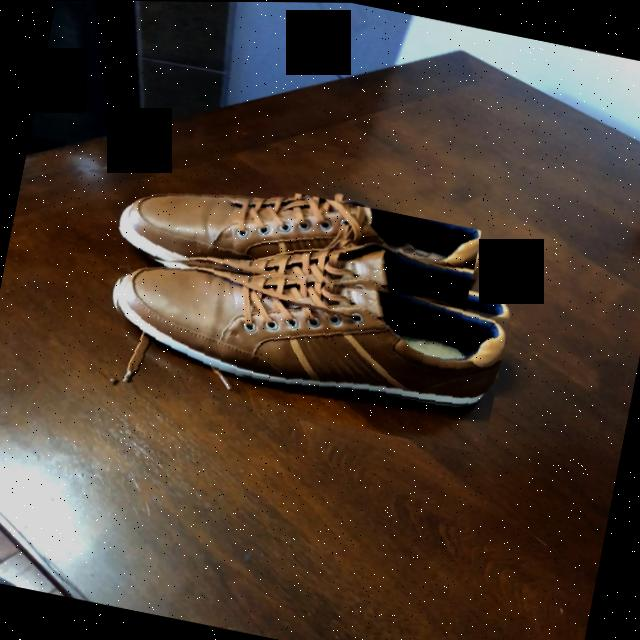shoe: (116, 268, 506, 405), (118, 195, 480, 266)
